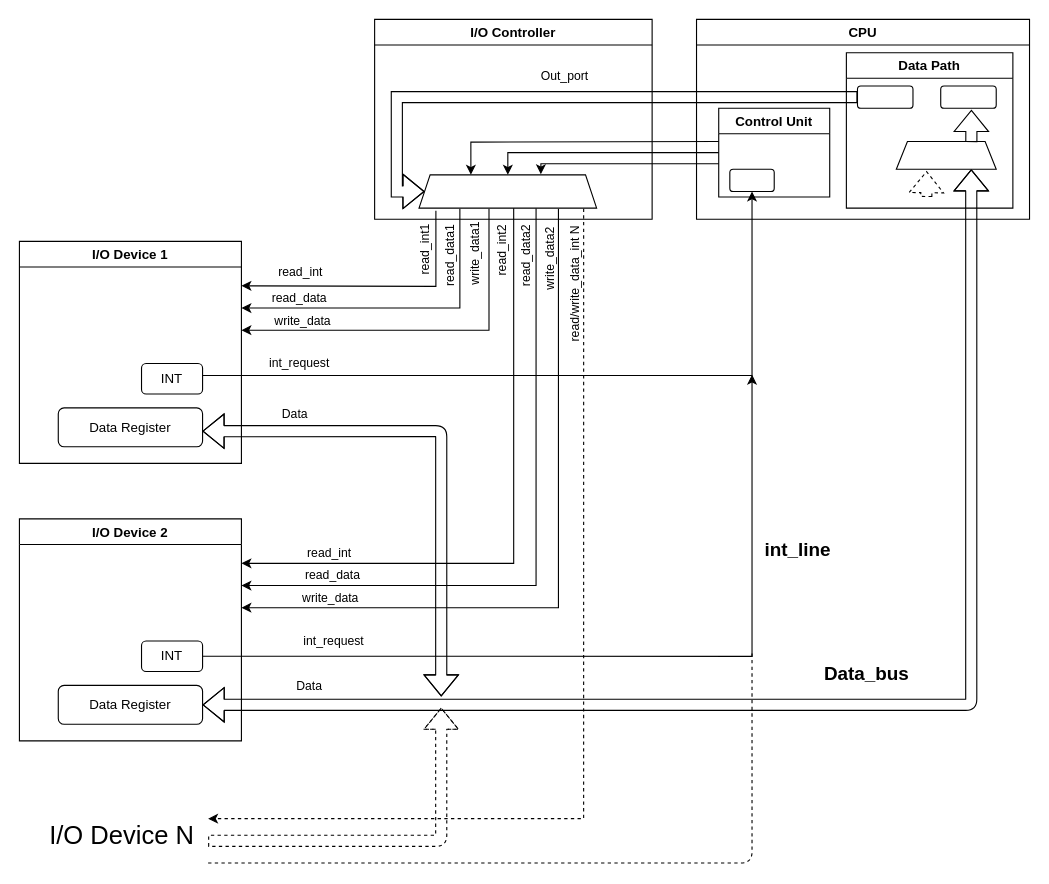
The diagram is 1049 pixels wide and 884 high, and some of its shapes have lost their labels. Each missing label, with the centre of its shape:
"AC" goes at point 968,96.
"AC MUX" goes at point 945,154.
"BR" goes at point 884,96.
"DEMUX" goes at point 507,191.
"IRQ" goes at point 751,179.
